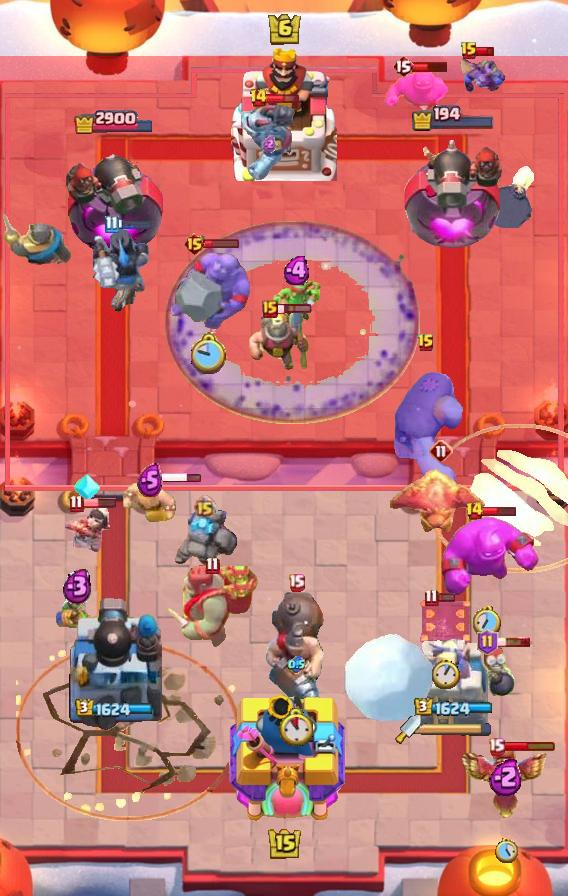archer: (123, 482, 177, 526)
archer-queen: (168, 249, 250, 333)
baby-dragon: (485, 166, 537, 228)
balloon: (388, 356, 464, 496)
bandit: (247, 305, 313, 373)
bar: (416, 637, 490, 731)
clone: (433, 516, 541, 598)
electro-spirit: (488, 756, 524, 795), (63, 567, 93, 605), (137, 463, 163, 497), (283, 255, 313, 284), (288, 655, 305, 672), (262, 135, 276, 153)
elixir: (191, 332, 228, 374), (279, 708, 313, 746), (473, 606, 501, 637), (432, 658, 460, 689), (494, 838, 517, 863)
elixir-golem-small: (241, 101, 297, 181)
emote: (146, 471, 201, 484), (504, 740, 557, 752), (264, 91, 300, 105), (411, 60, 448, 73), (276, 303, 313, 315), (116, 218, 152, 230), (81, 497, 117, 509), (495, 636, 531, 648), (483, 505, 518, 517), (203, 238, 241, 249), (477, 47, 496, 58), (436, 593, 455, 604)
firecracker: (0, 212, 72, 267)
giant-snowball: (273, 278, 323, 322), (52, 589, 102, 633)
golden-knight: (460, 745, 552, 821)
guard: (16, 642, 240, 821)
ice-golem: (482, 646, 518, 702)
ice-spirit-evolution-symbol: (419, 596, 473, 646)
ice-wizard: (424, 424, 567, 573)
inferno-dragon: (90, 226, 150, 316)
king-tower: (223, 689, 345, 826), (231, 45, 337, 181)
king-tower-bar: (421, 722, 493, 736)
lava-hound: (164, 565, 260, 651)
mother-witch: (390, 468, 492, 538)
pad_2: (72, 473, 102, 503)
rocket: (164, 220, 420, 424)
royal-delivery: (457, 53, 507, 95)
selected: (412, 104, 497, 131), (73, 108, 155, 134), (414, 697, 494, 717), (75, 698, 153, 718)
skeleton-dragon: (61, 502, 113, 554)
text: (429, 439, 453, 463), (477, 629, 499, 655), (182, 232, 205, 256), (193, 494, 216, 518), (392, 54, 414, 78), (464, 501, 484, 521), (248, 88, 267, 108), (460, 41, 478, 61), (417, 333, 435, 353), (288, 573, 305, 592), (487, 736, 504, 755), (262, 300, 278, 318), (204, 556, 219, 575), (424, 589, 439, 608), (105, 215, 119, 233), (69, 495, 83, 513)
tornado: (383, 63, 453, 121)
tower-bar: (401, 132, 508, 256), (66, 595, 162, 731), (64, 138, 164, 256)
valkyrie-evolution: (171, 510, 237, 572)
wall-breaker: (343, 632, 437, 724)
wizard: (264, 590, 328, 708)
